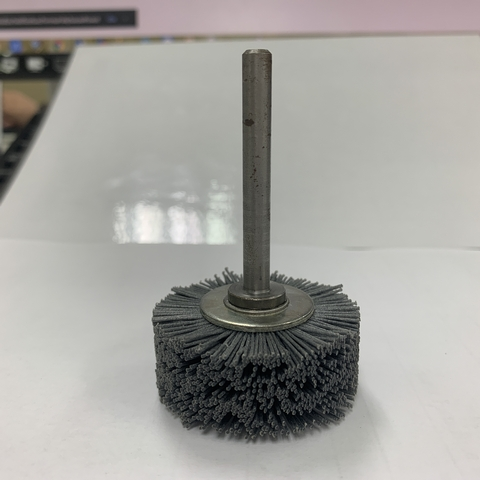Wheel Brush: (152, 43, 364, 445), (179, 19, 360, 442), (127, 240, 394, 459)
